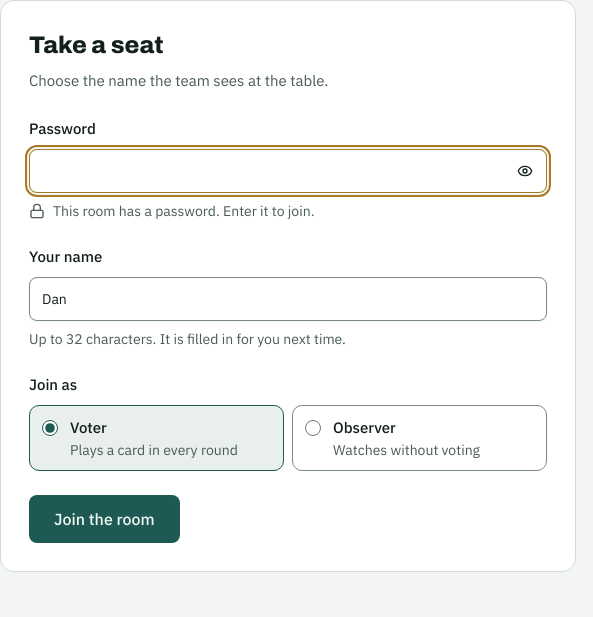
the join form in a room with a password › says a wrong password, keeps the focus on the field and selects it
Step 1. Click the button "Join the room" → [104, 519], box [29,495,180,543]
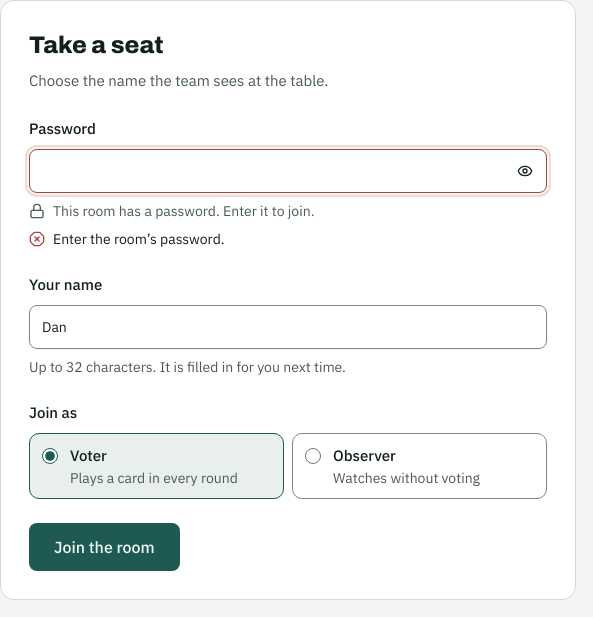
Expected: the message reads "Enter the room’s password.", [53,230,225,248]
Step 2. Type "nope" into the password field labelled "Password" → [288, 171], box [29,149,547,193]
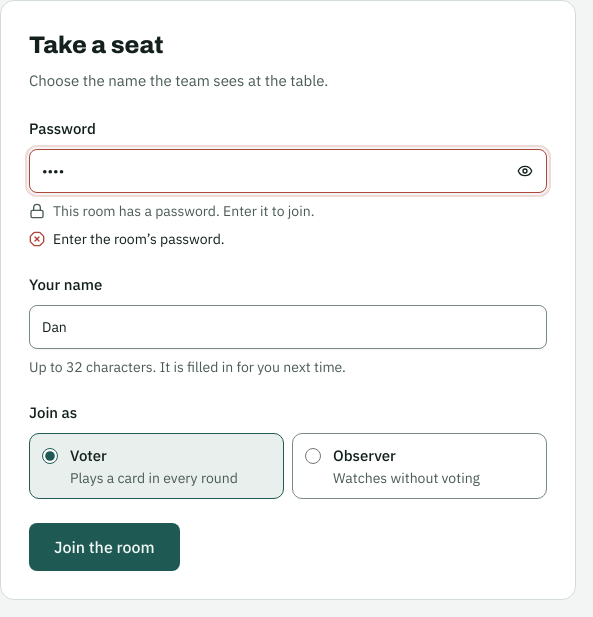
Step 3. Click the button "Join the room" → [104, 547], box [29,523,180,571]
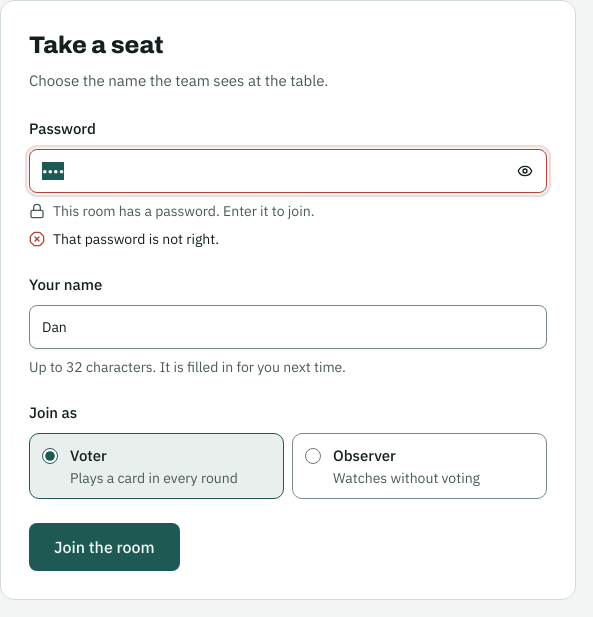
Expected: the message reads "That password is not right.", [53,230,219,248]
Step 4. Click the button "Join the room" → [104, 547], box [29,523,180,571]
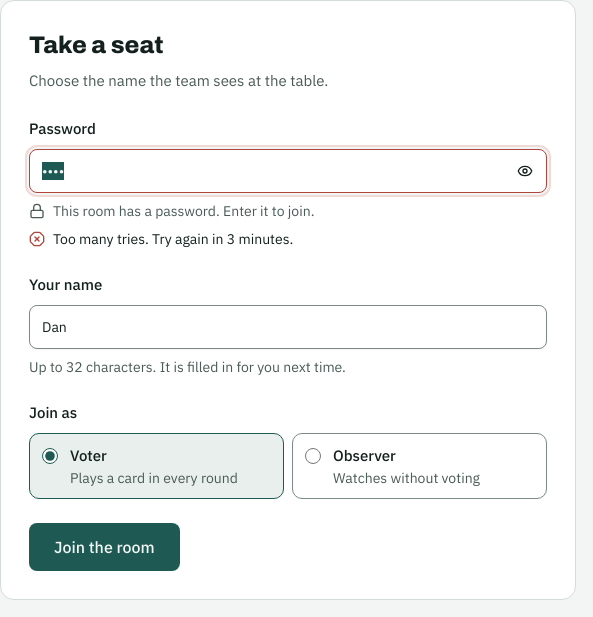
Expected: the message reads "Too many tries. Try again in 3 minutes.", [53,230,293,248]
Step 5. Click the button "Join the room" → [104, 547], box [29,523,180,571]
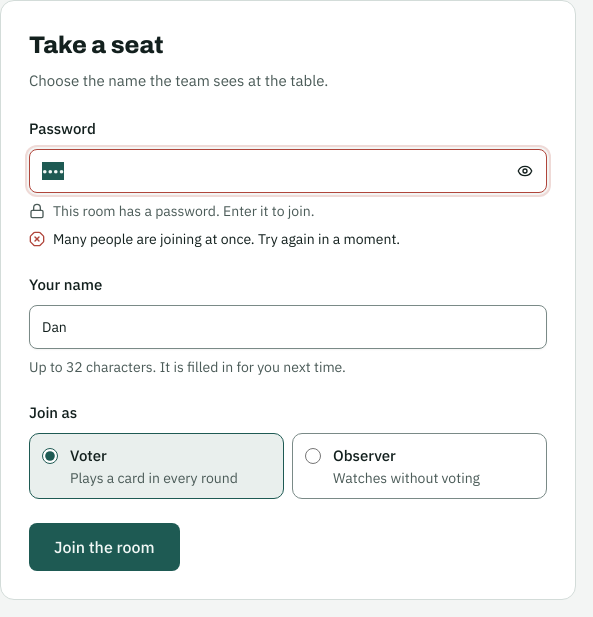
Expected: the message reads "Many people are joining at once. Try again in a moment.", [53,230,400,248]
